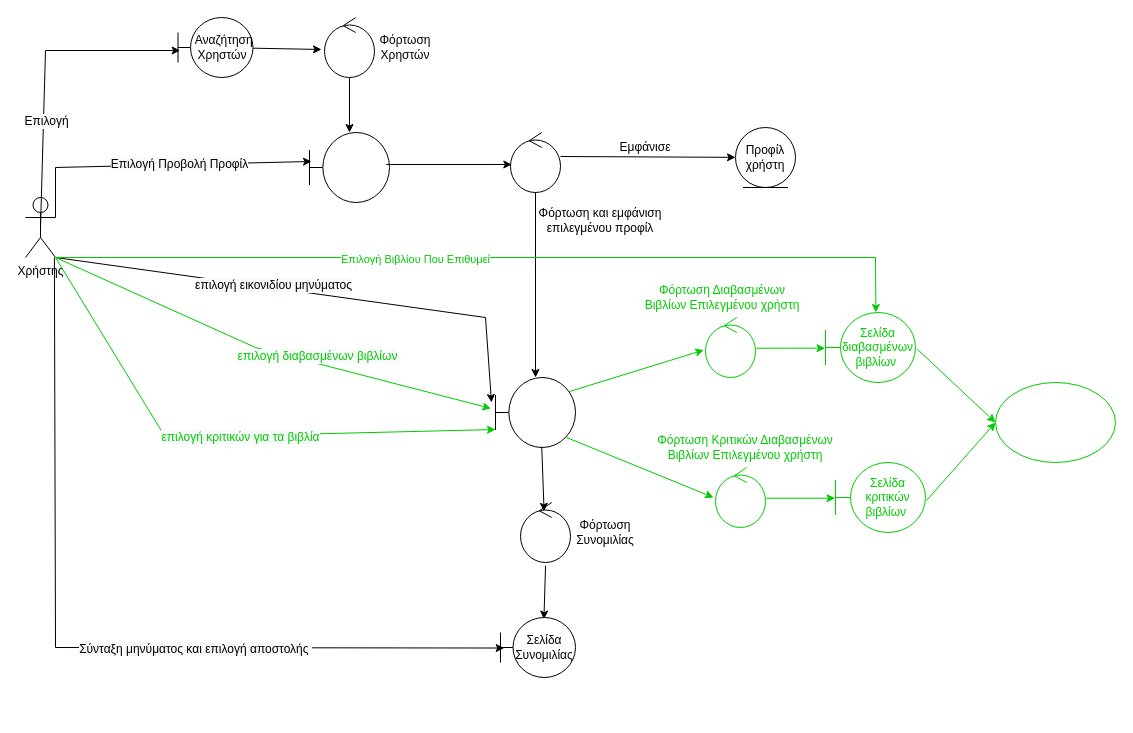
The diagram is 1133 pixels wide and 733 high, and some of its shapes have lost their labels. Here are the shapes that lost their labels. From the top down, the box of each, then its label:
(308, 132, 390, 202): Σελίδα Αναζήτησης Χρηστών
(494, 376, 576, 448): Σελίδα προφίλ του χρήστη
(994, 382, 1116, 462): Δανεισμός Βιβλίων
